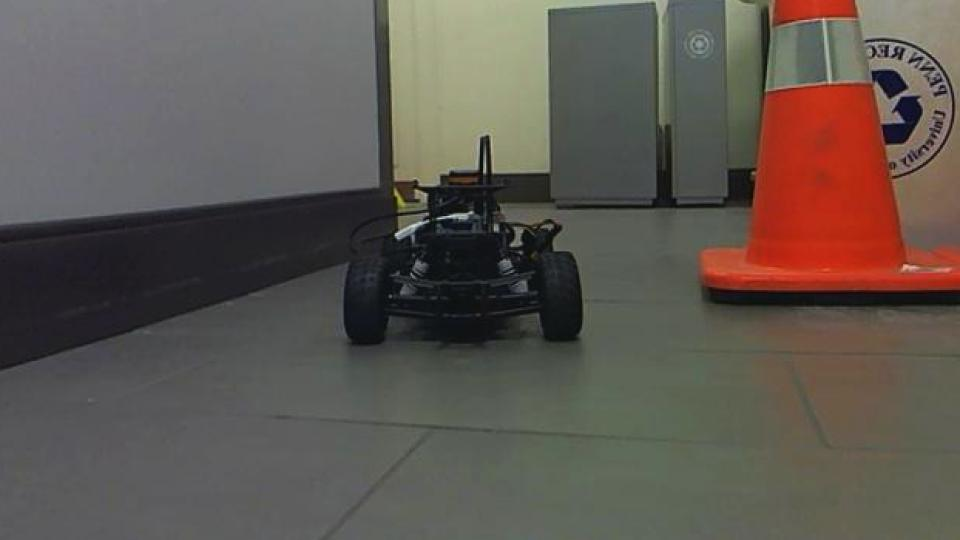car: (340, 133, 588, 347)
